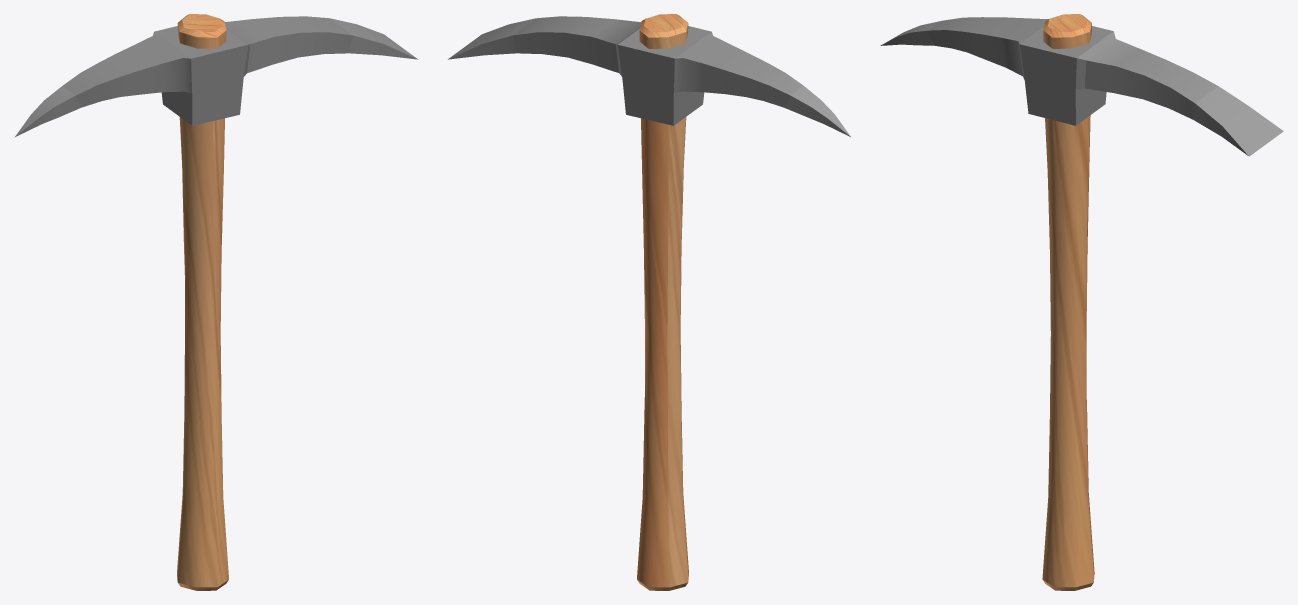
Rendered from Pickaxe.fbx.
The picture shows the model from 3 angles, left to right: view 1: azimuth 30°, elevation 25°; view 2: azimuth 150°, elevation 25°; view 3: azimuth 330°, elevation 25°; orthographic projection.
Visible parts, largest first — view 1: Cube; view 2: Cube; view 3: Cube.
Part boxes in pixels (x1,y1,x2,y2): Cube: (14, 14, 417, 590); Cube: (448, 14, 851, 590); Cube: (880, 14, 1283, 590).
Size of the model in its own units: 35.95 by 49.57 by 5.95.
3 materials, 1 textured.
